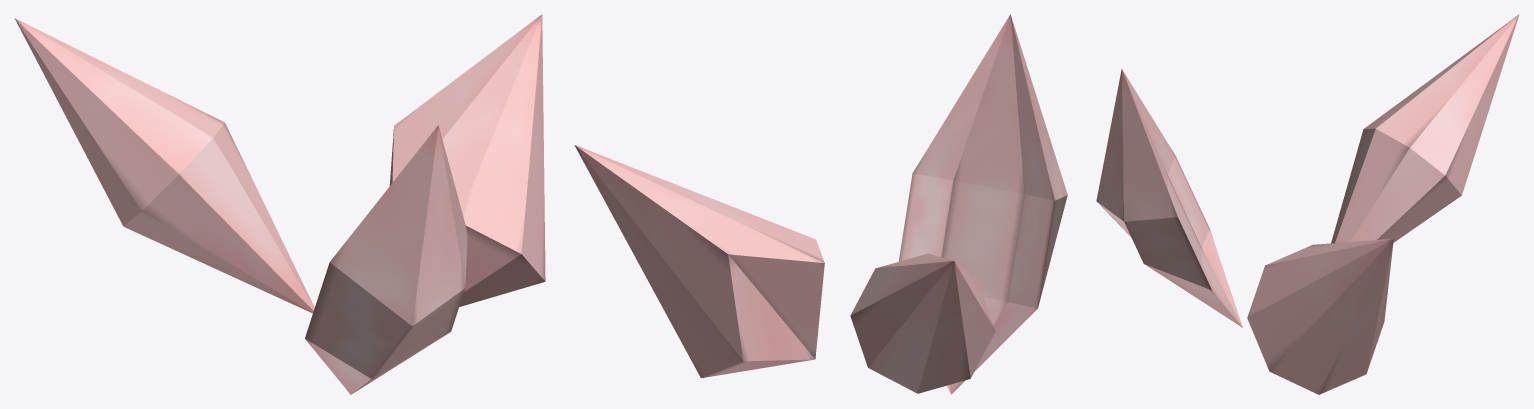
Rendered from ishizakura_fragment.obj.
The picture shows the model from 3 angles, left to right: view 1: azimuth 30°, elevation 25°; view 2: azimuth 150°, elevation 25°; view 3: azimuth 270°, elevation 25°; orthographic projection. The views are drawn at different scales.
Parts seen in each view (by area): view 1: front, center_crystal, left_crystal; view 2: center_crystal, left_crystal, front; view 3: front, left_crystal, center_crystal.
Boxes of the visible parts, x1,y1,x2,y2 form: front: (14,18,314,313); center_crystal: (305,125,467,394); left_crystal: (389,14,545,306); center_crystal: (898,14,1067,394); left_crystal: (574,145,824,378); front: (850,253,995,393); front: (1331,14,1519,243); left_crystal: (1247,239,1393,394); center_crystal: (1096,69,1242,327).
Bounding box in the file's own units: 0.7032 × 0.4759 × 0.6878.
